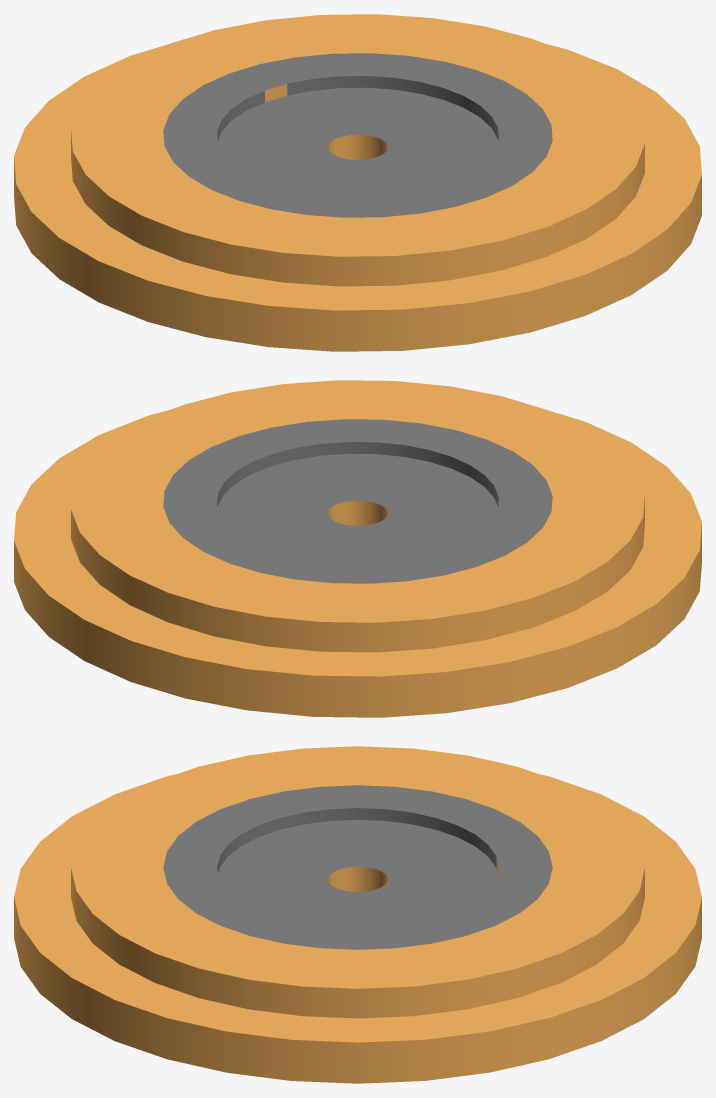
File: Plasma Interface.fbx
3 renders of one model, top to bottom at view 1: azimuth 30°, elevation 25°; view 2: azimuth 150°, elevation 25°; view 3: azimuth 270°, elevation 25°, orthographic.
Visible parts, largest first — view 1: Cylinder.060; view 2: Cylinder.060; view 3: Cylinder.060.
Boxes of the visible parts, x1,y1,x2,y2 form: Cylinder.060: (14,14,701,351); Cylinder.060: (14,380,701,717); Cylinder.060: (14,746,701,1083).
Bounding box in the file's own units: 100 × 11.36 × 100.
